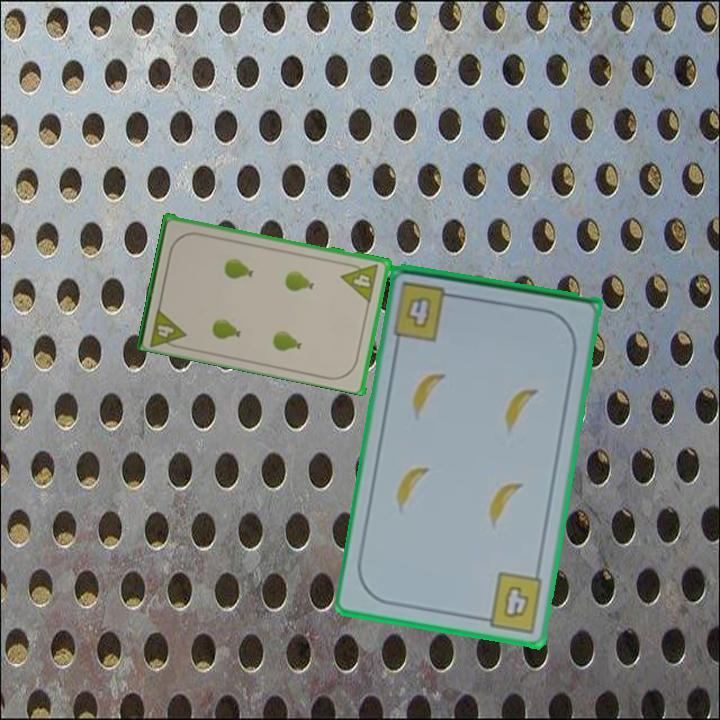4b: (475, 568, 546, 636), (393, 278, 462, 344)
4p: (146, 303, 190, 352), (339, 259, 382, 304)
